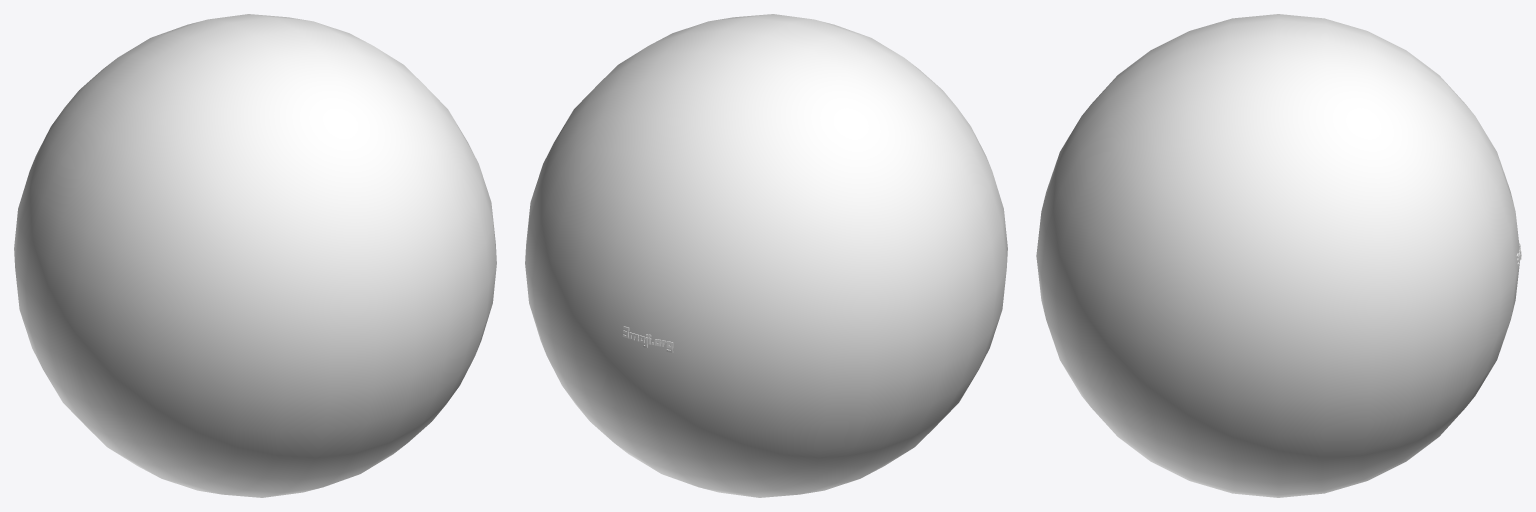
File: white_circle.glb
The picture shows the model from 3 angles, left to right: view 1: azimuth 30°, elevation 25°; view 2: azimuth 150°, elevation 25°; view 3: azimuth 270°, elevation 25°; orthographic projection.
Visible parts, largest first — view 1: black_circle.001; view 2: black_circle.001; view 3: black_circle.001.
Part boxes in pixels (x1,y1,x2,y2): black_circle.001: [14, 14, 496, 497]; black_circle.001: [525, 14, 1007, 497]; black_circle.001: [1036, 14, 1521, 497].
Bounding box in the file's own units: 2.23 × 2.23 × 2.23.
1 material, 1 textured.
